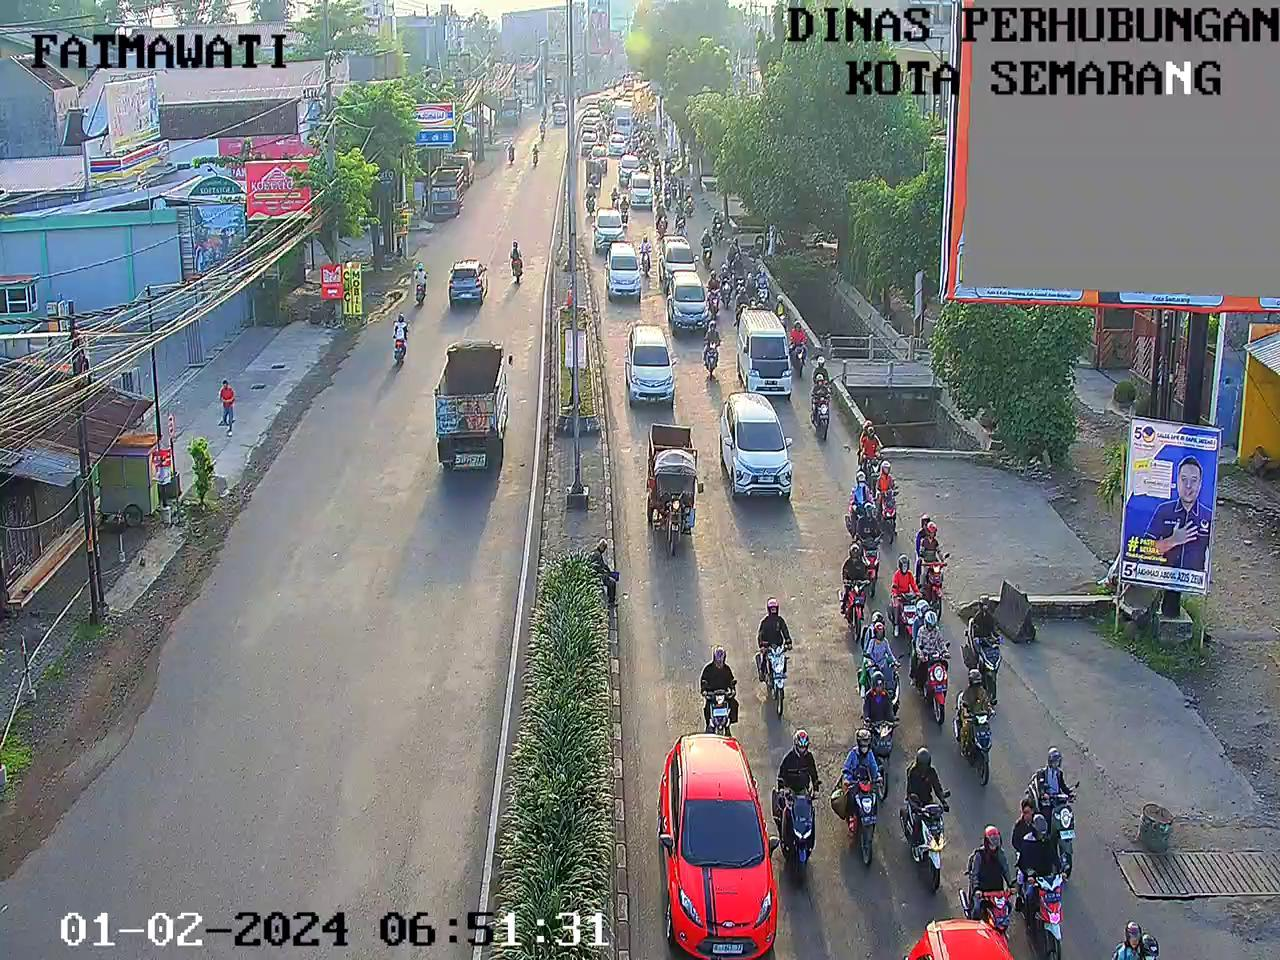bus: (609, 96, 637, 143)
car: (639, 732, 791, 960), (601, 310, 688, 398), (721, 393, 794, 494), (904, 912, 1031, 960), (729, 293, 783, 397), (665, 267, 712, 331), (600, 236, 644, 297), (658, 234, 702, 290), (590, 206, 626, 244), (630, 168, 654, 207), (607, 124, 628, 155), (622, 153, 641, 183), (580, 111, 604, 133), (595, 96, 617, 118), (581, 130, 598, 150), (594, 142, 606, 164), (625, 88, 636, 102), (588, 105, 602, 114)
motorcycle: (641, 419, 710, 572), (1013, 794, 1068, 952), (771, 724, 825, 879), (844, 661, 904, 798), (753, 584, 808, 726), (905, 745, 956, 886), (838, 726, 883, 862), (1038, 741, 1085, 856), (861, 611, 911, 710), (908, 501, 951, 612), (958, 659, 995, 785), (967, 830, 1012, 926), (916, 601, 953, 715), (698, 630, 739, 734), (966, 587, 1004, 694), (885, 550, 928, 642), (854, 501, 889, 599), (836, 535, 869, 637), (876, 457, 902, 531), (859, 423, 884, 485), (854, 469, 875, 536), (812, 376, 834, 439), (816, 353, 836, 401), (791, 316, 807, 370), (584, 156, 607, 187), (640, 232, 657, 271), (674, 202, 691, 236), (654, 200, 670, 234), (735, 288, 750, 325), (731, 252, 746, 288), (707, 268, 719, 313), (718, 261, 730, 302), (664, 178, 678, 211), (757, 266, 769, 304), (745, 267, 757, 304), (651, 163, 663, 197), (777, 291, 788, 327), (713, 207, 724, 242), (585, 182, 596, 214), (687, 186, 698, 217), (728, 233, 742, 257), (706, 322, 713, 369), (672, 167, 681, 201), (624, 195, 634, 224), (652, 154, 663, 177), (703, 229, 711, 263), (632, 134, 640, 155), (641, 149, 649, 169), (608, 111, 617, 128), (612, 190, 620, 206), (639, 106, 647, 122), (643, 130, 650, 147), (649, 135, 655, 149), (601, 109, 607, 123), (632, 110, 638, 120), (646, 117, 648, 133)
